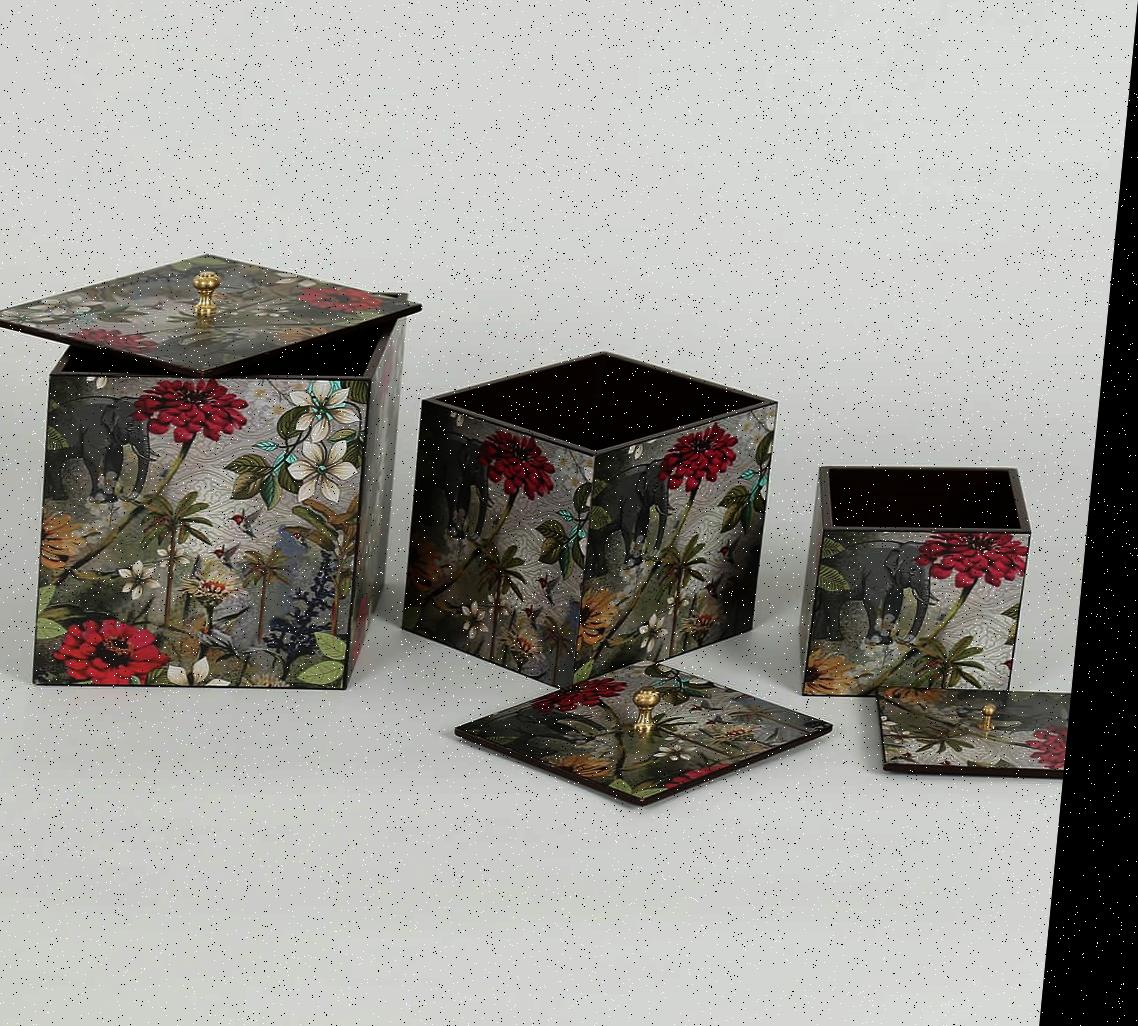cube: (32, 318, 414, 696), (402, 355, 799, 693), (813, 461, 1060, 699)
